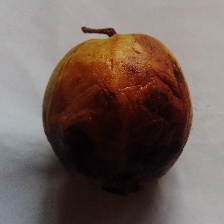guava: (16, 22, 172, 211)
